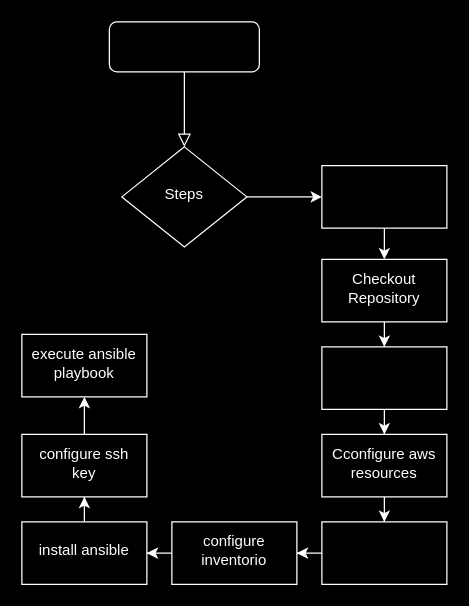
The diagram is 469 pixels wide and 606 high, and some of its shapes have lost their labels. The shapes that lost their labels are listed below. From the top down, each one's centre as x and y in pixels, then its label:
At (x=183, y=46): "Deploy_infra".
At (x=384, y=196): "Configure Credentials".
At (x=384, y=377): "hashicorp/setup-terraform@v3".
At (x=384, y=552): "retrieve public ip of ec2_instance".
